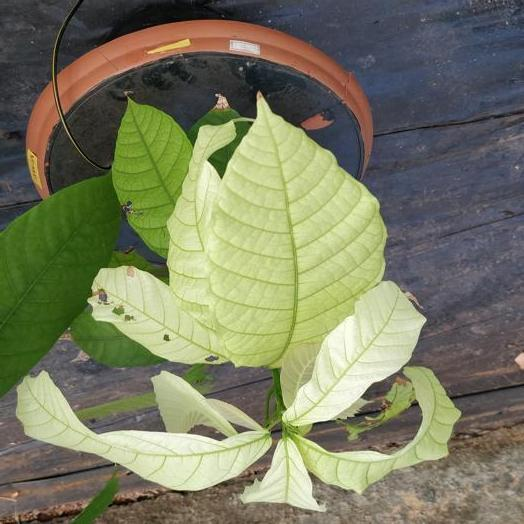Iron: (207, 97, 384, 364), (16, 372, 271, 490), (295, 367, 460, 493), (284, 281, 424, 426), (167, 124, 235, 328), (88, 266, 224, 364), (241, 436, 325, 511), (153, 371, 236, 436), (281, 346, 317, 405), (205, 398, 263, 429)
